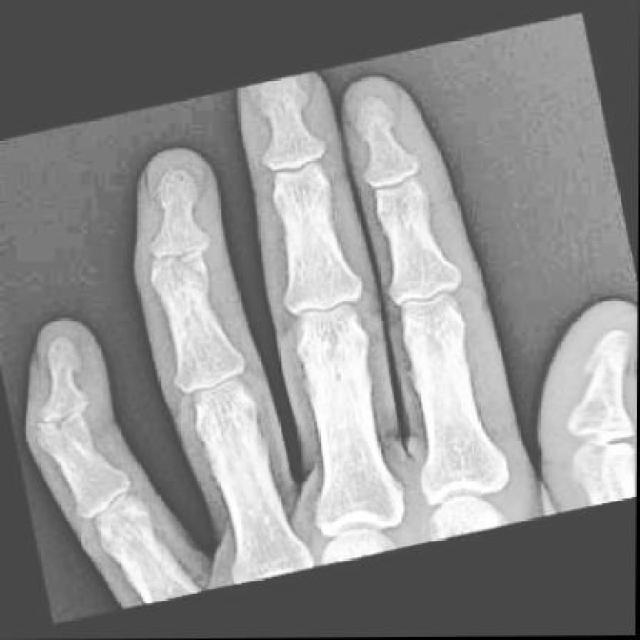Fracture: (140, 231, 216, 306), (37, 401, 98, 459)
